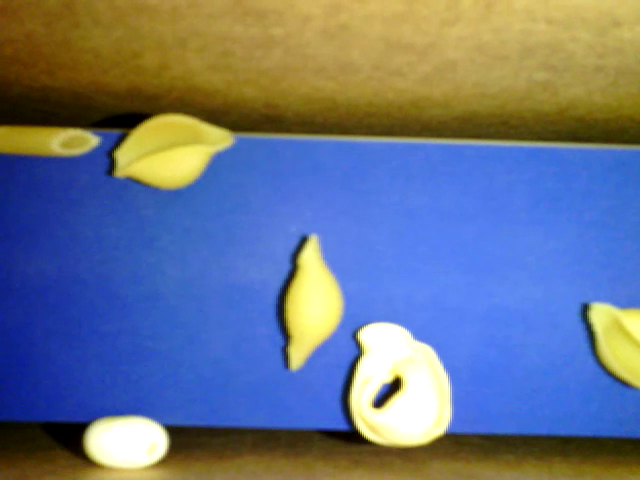penne: (1, 124, 102, 157)
shell: (110, 112, 235, 189), (283, 233, 345, 372), (587, 302, 639, 389)
tortellini: (349, 323, 453, 448)
